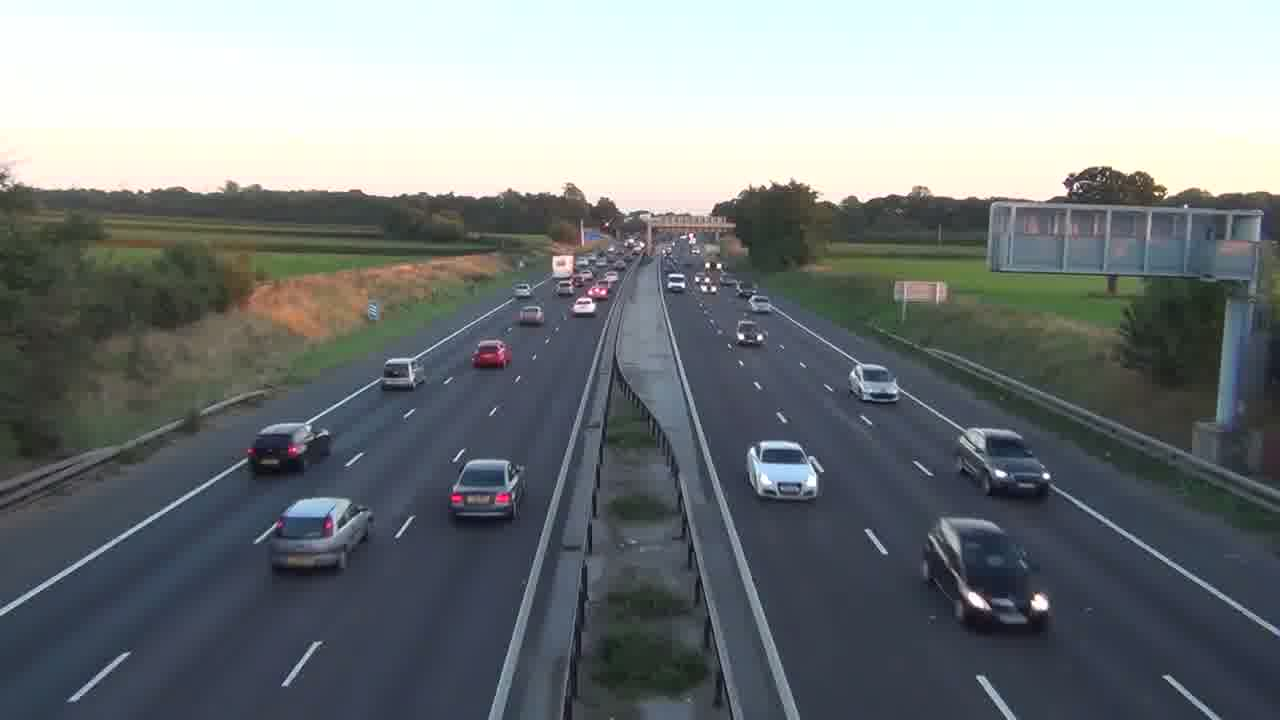car: (922, 515, 1053, 633), (265, 495, 374, 572), (954, 426, 1053, 499), (448, 457, 528, 520), (746, 439, 824, 501), (848, 364, 901, 404), (471, 339, 512, 369), (516, 303, 545, 326)
truck: (245, 420, 334, 475)
